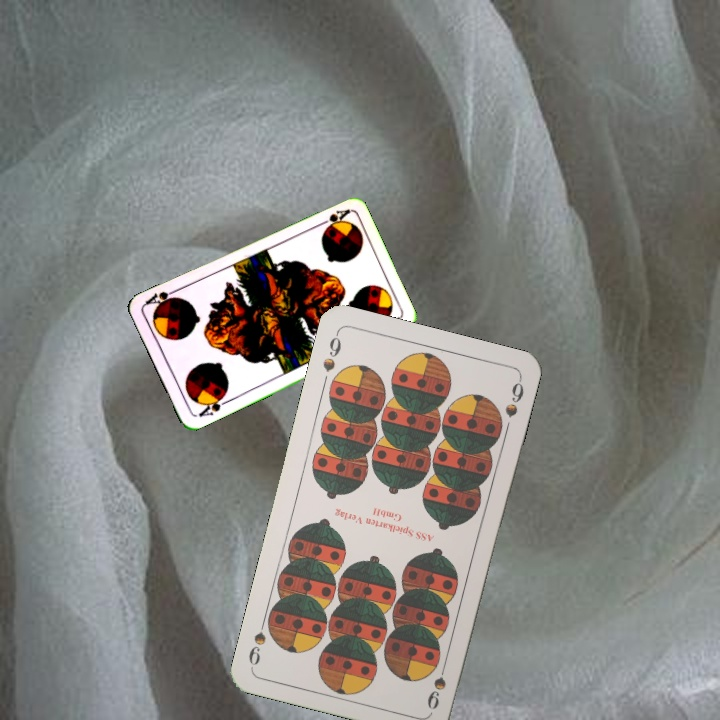S9: (423, 655, 450, 713), (318, 328, 344, 374)
SA: (194, 390, 232, 420), (313, 205, 352, 231)
